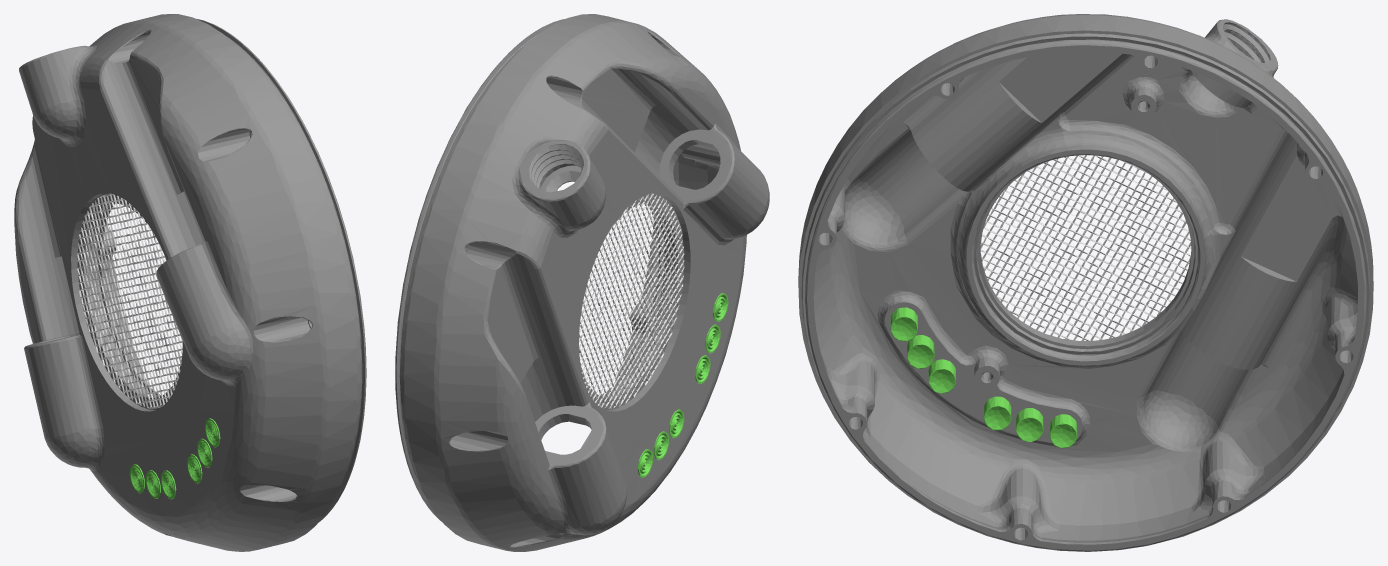
Rendered from elbow_mesh.dae.
3 views of the same model, side by side, from view 1: azimuth 30°, elevation 25°; view 2: azimuth 150°, elevation 25°; view 3: azimuth 270°, elevation 25° (orthographic). The views are drawn at different scales.
Visible parts, largest first — view 1: BlackCap, WireMesh, LED; view 2: BlackCap, WireMesh, LED; view 3: BlackCap, WireMesh, LED.
Part boxes in pixels (x1,y1,x2,y2): BlackCap: (14, 14, 366, 551); WireMesh: (77, 193, 182, 408); LED: (129, 418, 220, 499); BlackCap: (395, 14, 769, 551); WireMesh: (579, 193, 684, 408); LED: (638, 293, 728, 477); BlackCap: (798, 14, 1373, 551); WireMesh: (980, 155, 1191, 340); LED: (890, 307, 1077, 448).
Size of the model in its own units: 0.0269 by 0.09 by 0.09.
